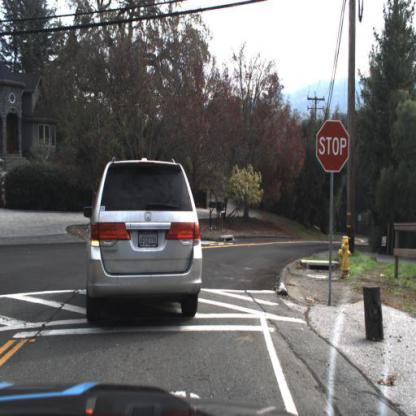car: (85, 163, 207, 315)
